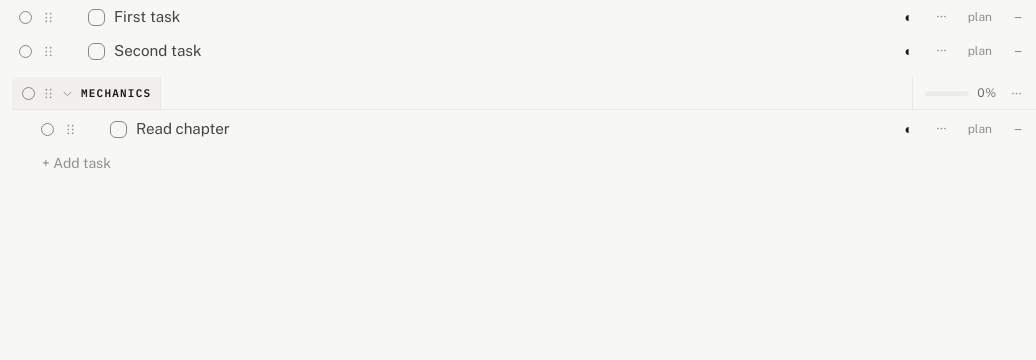
Test: the ⋯ menu › renames through the row's own title editor
Click the button named "Actions for \"First task\"" at (942, 17), box x1=930 y1=5 x2=954 y2=29
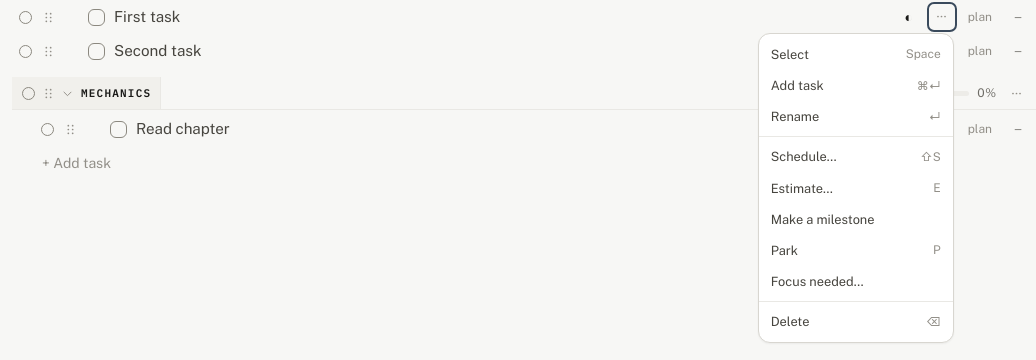
Click the menu item "Rename ↵" at (856, 117), box x1=759 y1=101 x2=953 y2=132
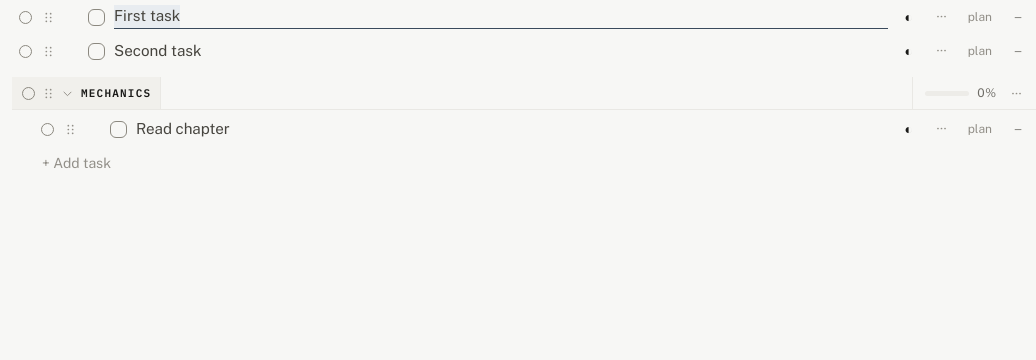
Expected: the field showing "First task" is shown, x1=114 y1=5 x2=888 y2=29
